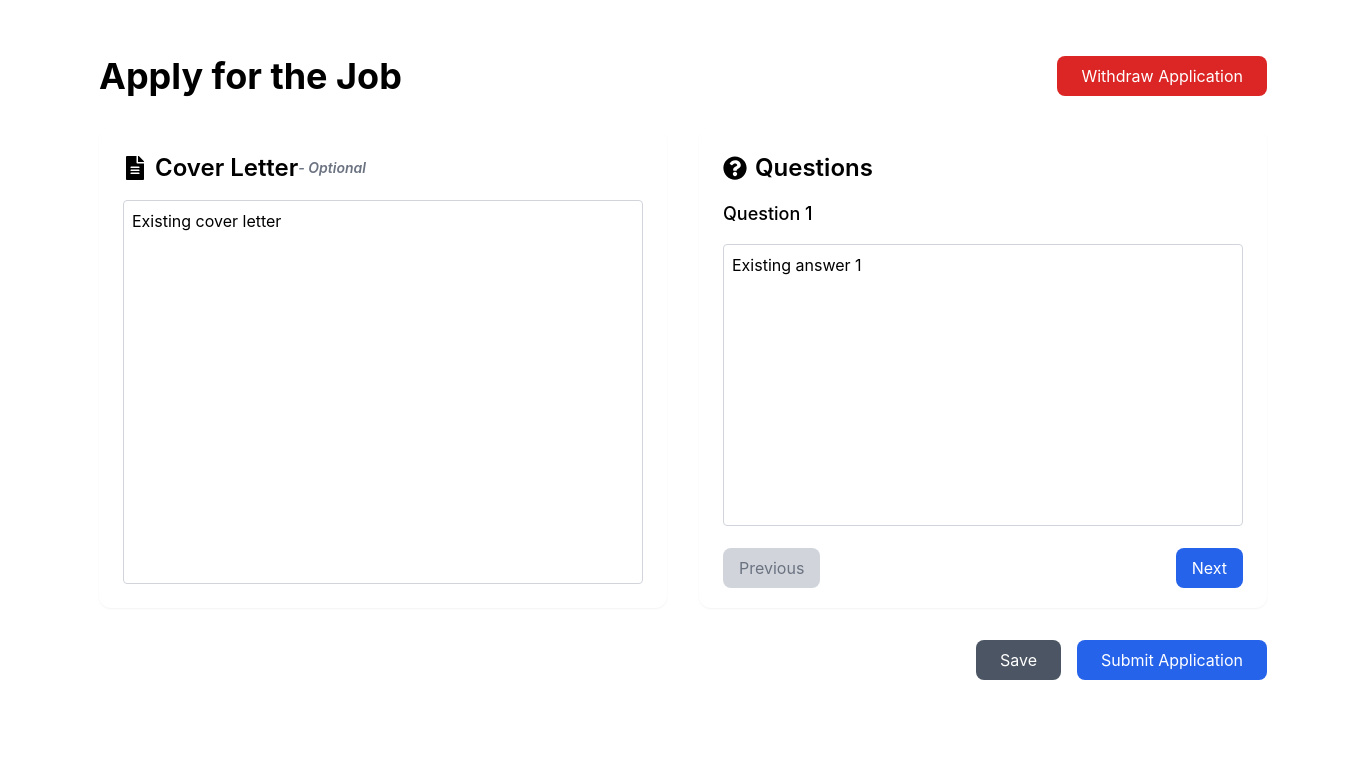
Scenario: Apply Component › navigates between questions
This screenshot has width=1366, height=768.
Check: the text "Question 1" is shown, box [723,203,813,224]
Click the button "Next": click(1209, 568) [1176,548,1243,588]
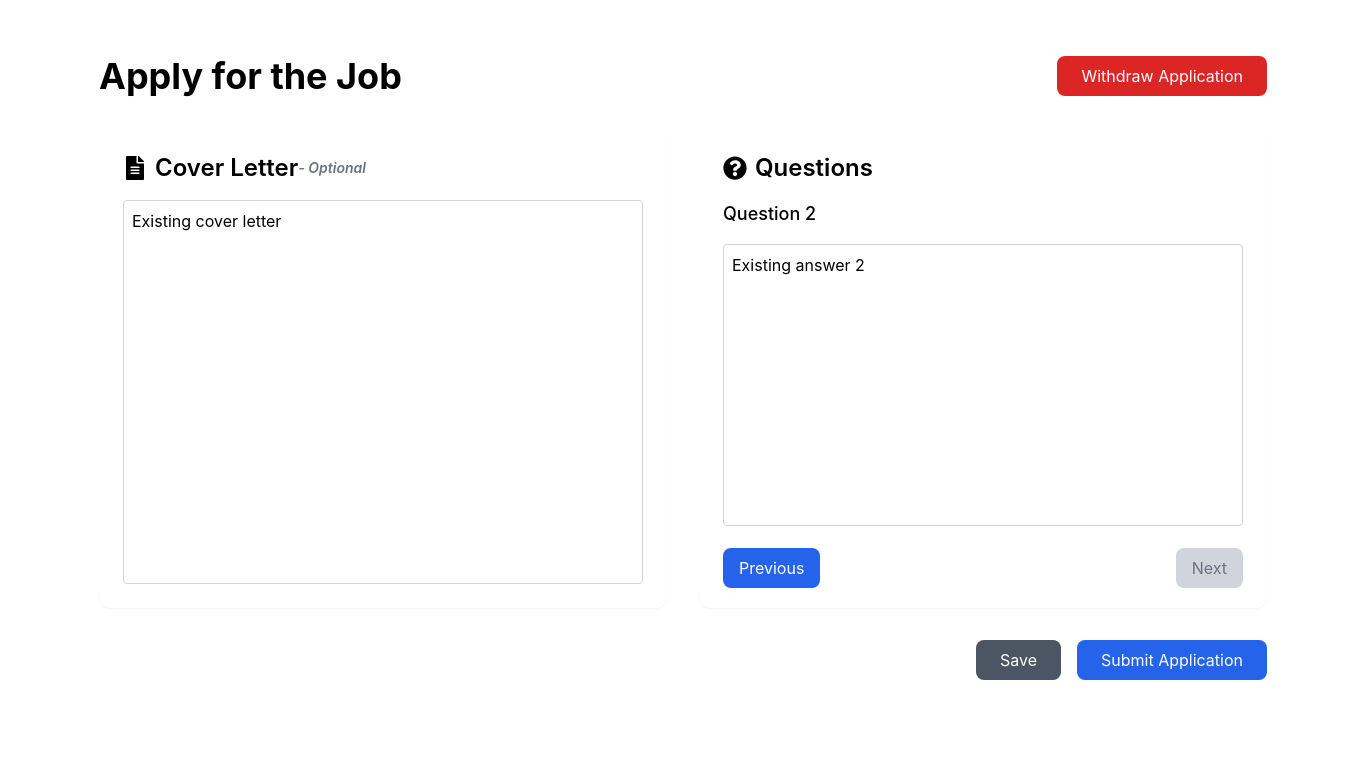
Check: the text "Question 2" is shown, box [723,203,816,224]
Click the button "Previous": click(772, 568) [723,548,820,588]
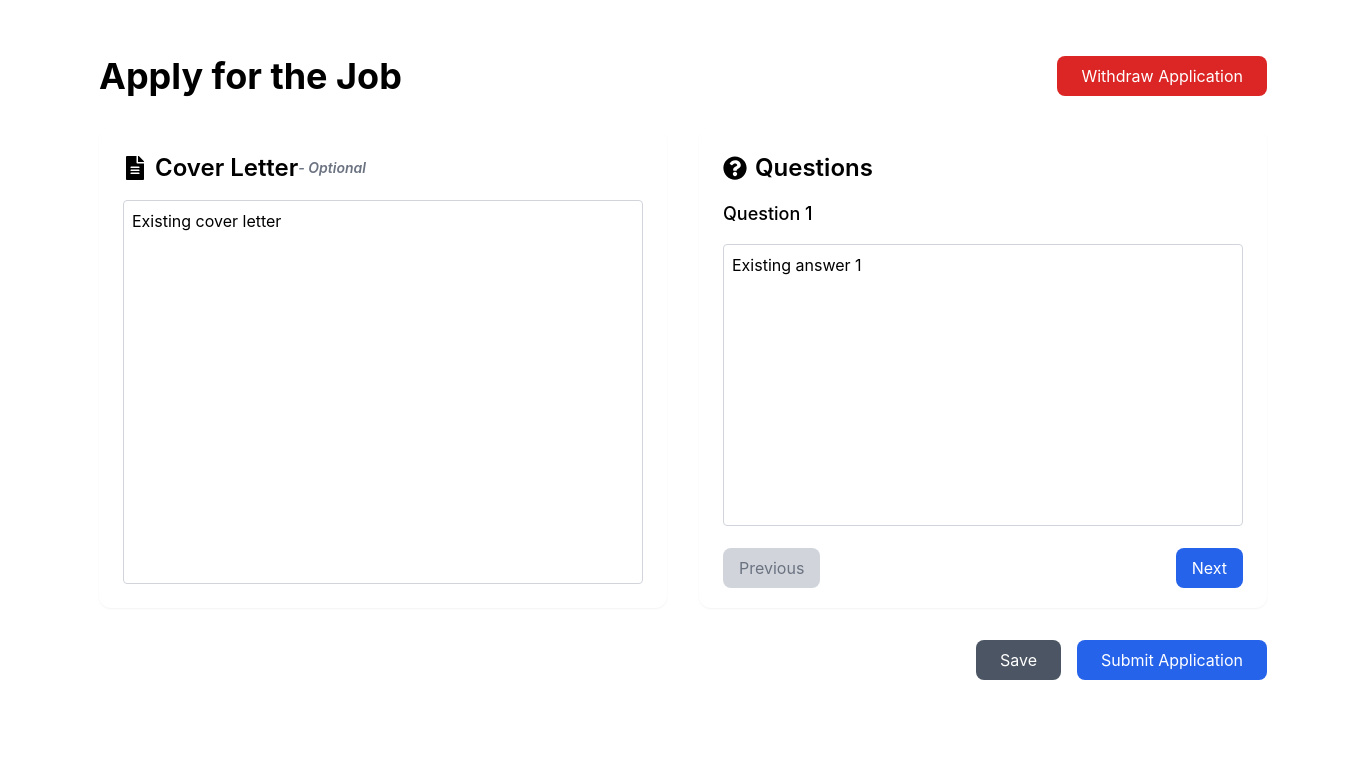
Check: the text "Question 1" is shown, box [723,203,813,224]
